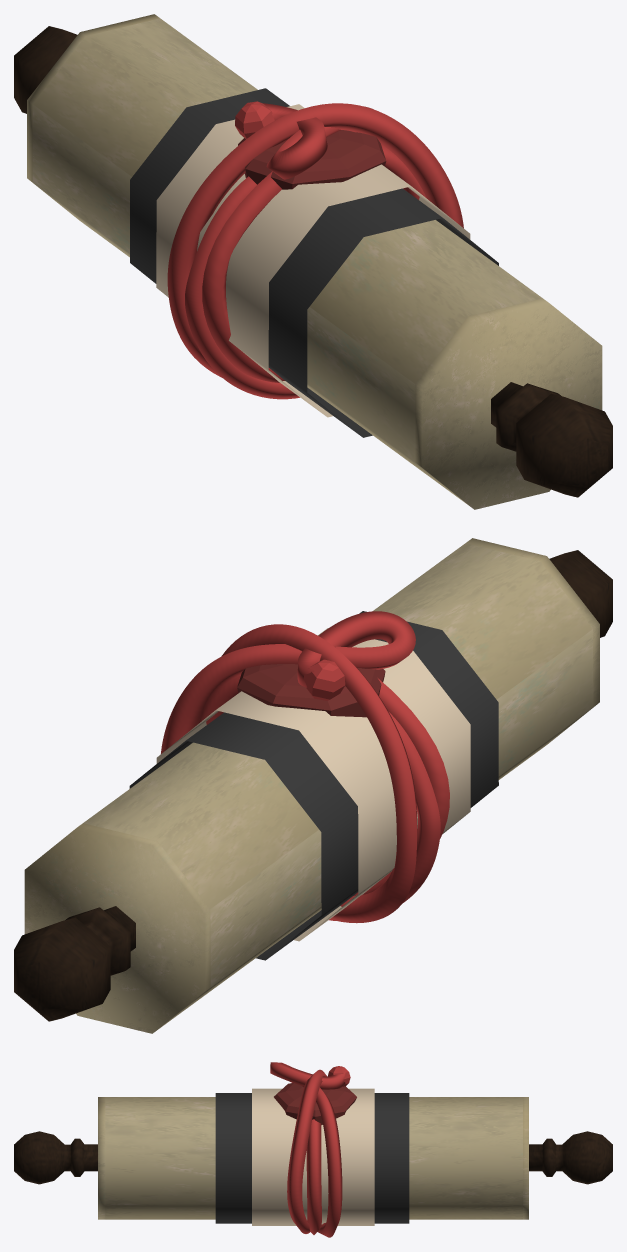
Rendered from Scroll.fbx.
3 renders of one model, top to bottom at view 1: azimuth 30°, elevation 25°; view 2: azimuth 150°, elevation 25°; view 3: azimuth 270°, elevation 25°, orthographic. The views are drawn at different scales.
Visible parts, largest first — view 1: Sphere.005, NurbsPath, Sphere, Sphere.003; view 2: Sphere.005, NurbsPath, Sphere, Sphere.003; view 3: Sphere.005, NurbsPath, Sphere.
Part boxes in pixels (x1,y1,x2,y2): Sphere.005: (14, 14, 612, 509); NurbsPath: (167, 103, 463, 399); Sphere: (238, 130, 386, 189); Sphere.003: (235, 101, 274, 139); Sphere.005: (14, 538, 612, 1033); NurbsPath: (161, 611, 449, 923); Sphere: (237, 664, 385, 717); Sphere.003: (304, 659, 345, 700); Sphere.005: (14, 1088, 612, 1225); NurbsPath: (270, 1062, 345, 1237); Sphere: (274, 1083, 356, 1124).
Bounding box in the file's own units: 107 × 113 × 390.
